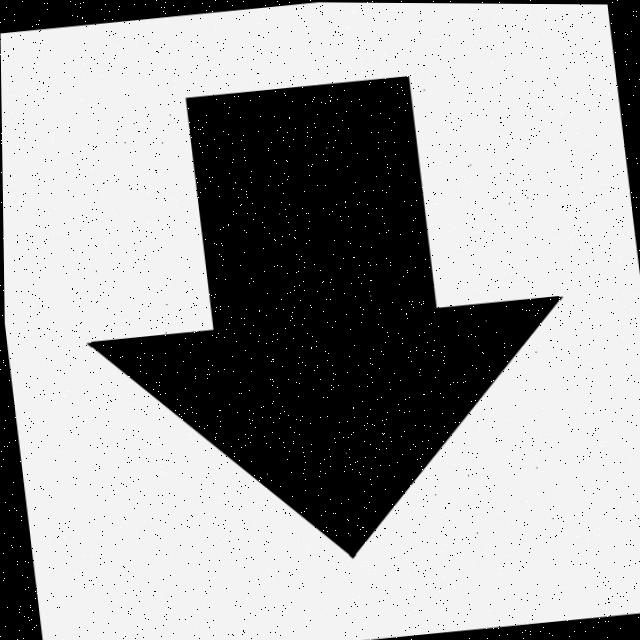DOWN: (90, 76, 558, 554)
